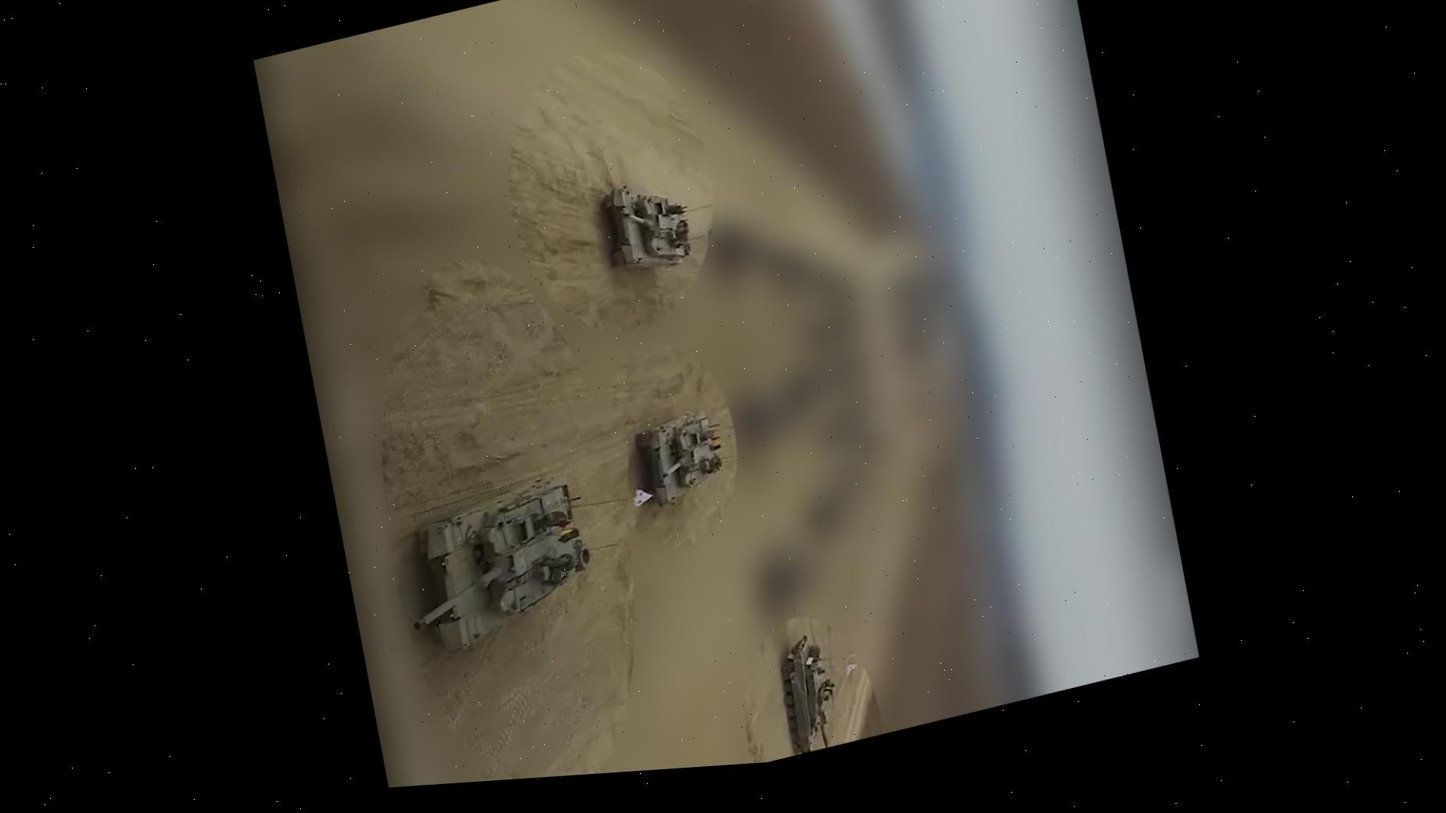tank: (389, 462, 607, 666), (589, 167, 700, 285), (627, 396, 736, 515), (762, 620, 838, 759)
